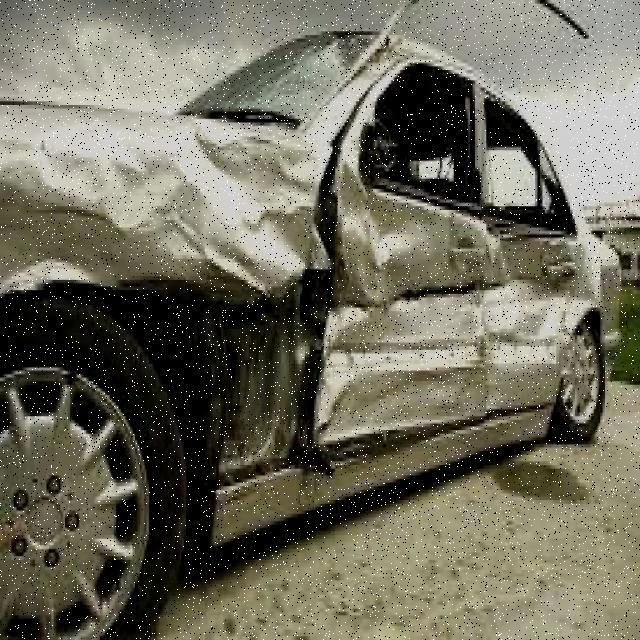car damage: (3, 30, 610, 523)
